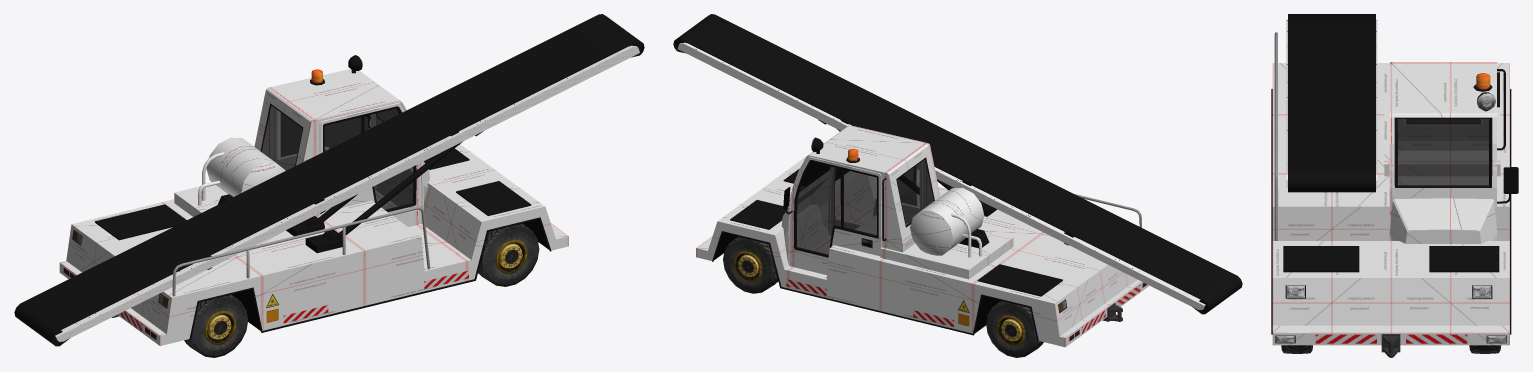
File: bagloader.FBX
The picture shows the model from 3 angles, left to right: view 1: azimuth 30°, elevation 25°; view 2: azimuth 150°, elevation 25°; view 3: azimuth 270°, elevation 25°; orthographic projection. The views are drawn at different scales.
Visible parts, largest first — view 1: Object004, Cylinder002, Cylinder005; view 2: Object004, Cylinder009, Cylinder008; view 3: Object004, Cylinder009, Cylinder002.
Part boxes in pixels (left/top/right/bottom): Object004: left=14, top=14, right=644, bottom=346; Cylinder002: left=478, top=223, right=539, bottom=286; Cylinder005: left=184, top=294, right=248, bottom=357; Object004: left=673, top=14, right=1242, bottom=347; Cylinder009: left=723, top=236, right=778, bottom=293; Cylinder008: left=986, top=301, right=1043, bottom=357; Object004: left=1271, top=14, right=1518, bottom=357; Cylinder009: left=1469, top=345, right=1501, bottom=353; Cylinder002: left=1281, top=345, right=1312, bottom=353.
Bounding box in the file's own units: 34.8 × 11.9 × 10.65.
